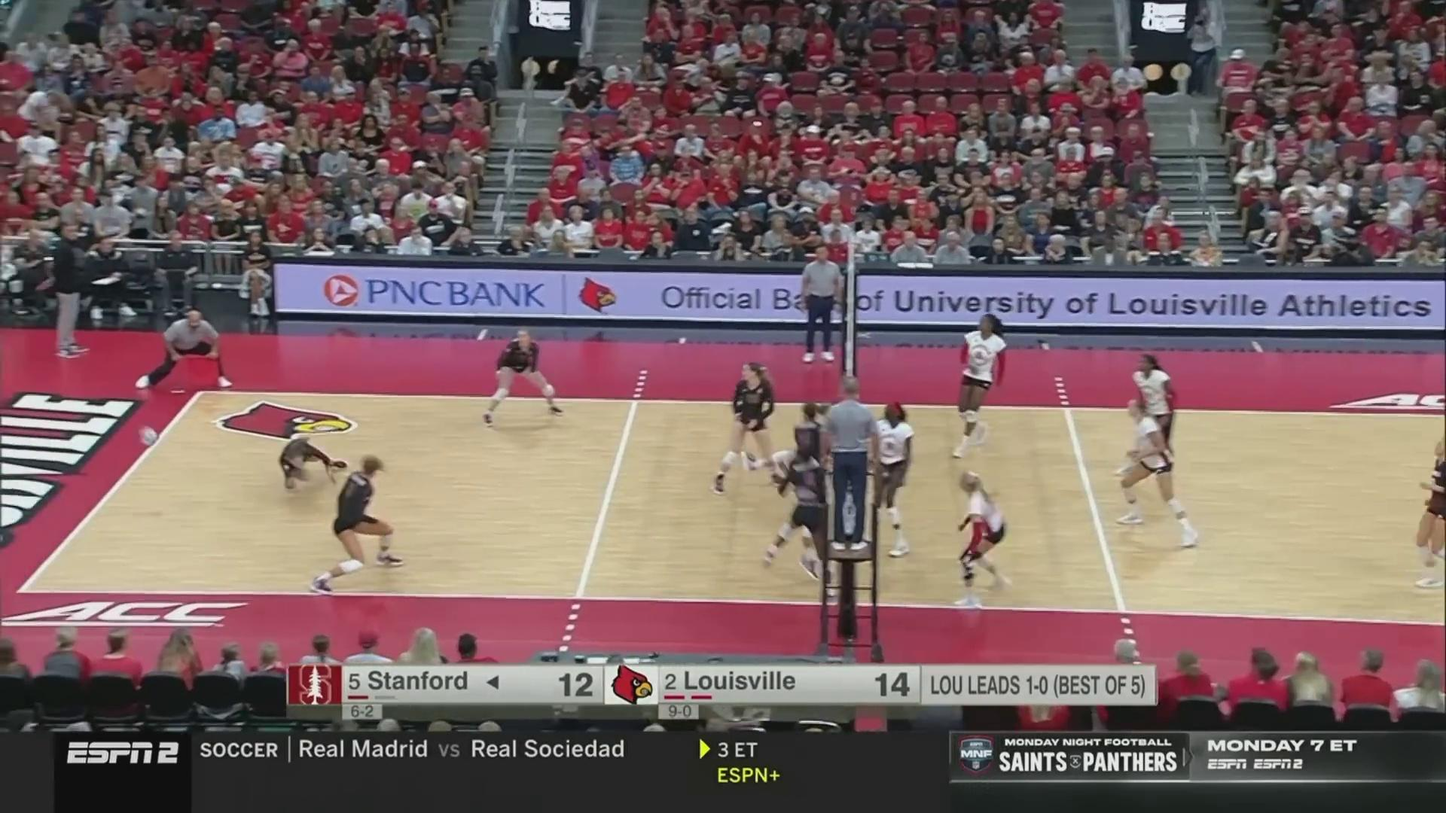player: (314, 459, 404, 591), (1116, 405, 1194, 546), (766, 443, 838, 568), (860, 407, 919, 559), (480, 329, 564, 425), (945, 476, 1010, 600), (718, 361, 778, 487), (953, 320, 1008, 455), (1119, 358, 1181, 477), (789, 401, 837, 550), (273, 429, 355, 494), (1413, 450, 1446, 591)
refree: (823, 373, 883, 552), (138, 307, 232, 393), (800, 238, 841, 365)
